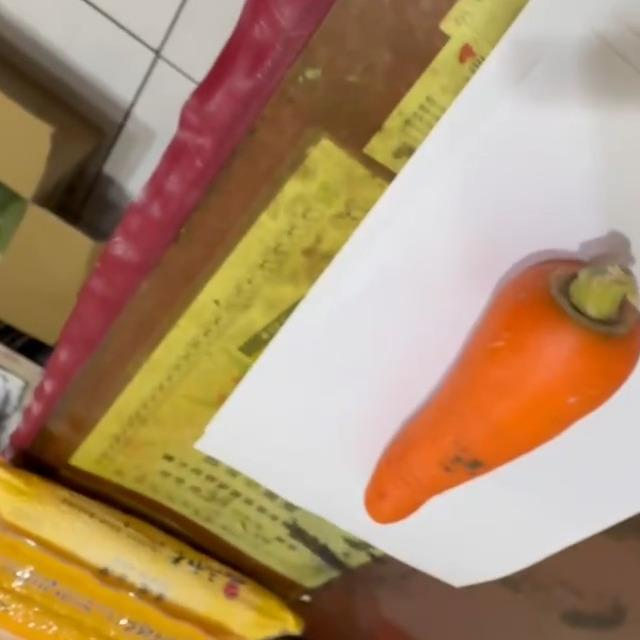carrot: (362, 253, 640, 527)
